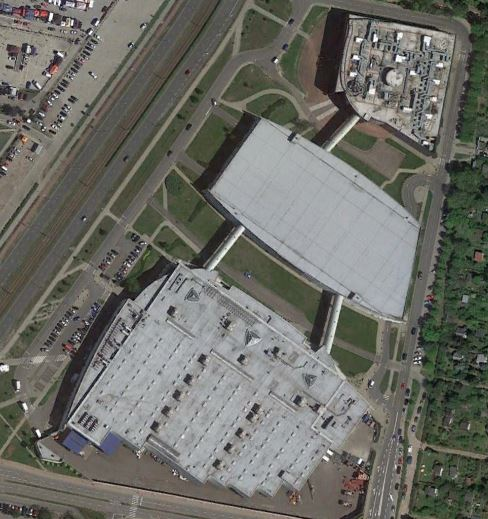shopping_center: (54, 9, 463, 507)
